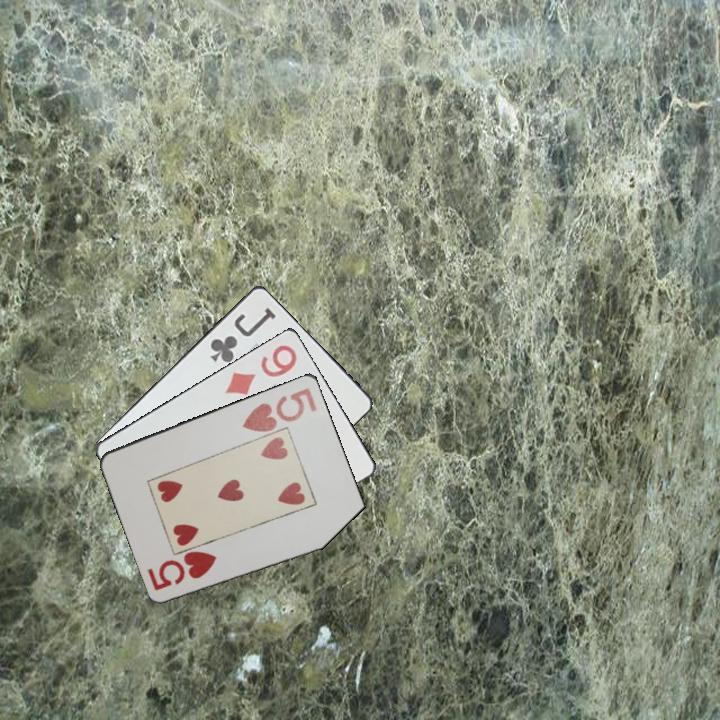5h: (239, 384, 320, 435), (146, 548, 220, 593)
9d: (221, 341, 301, 397)
Jc: (206, 303, 279, 365)
